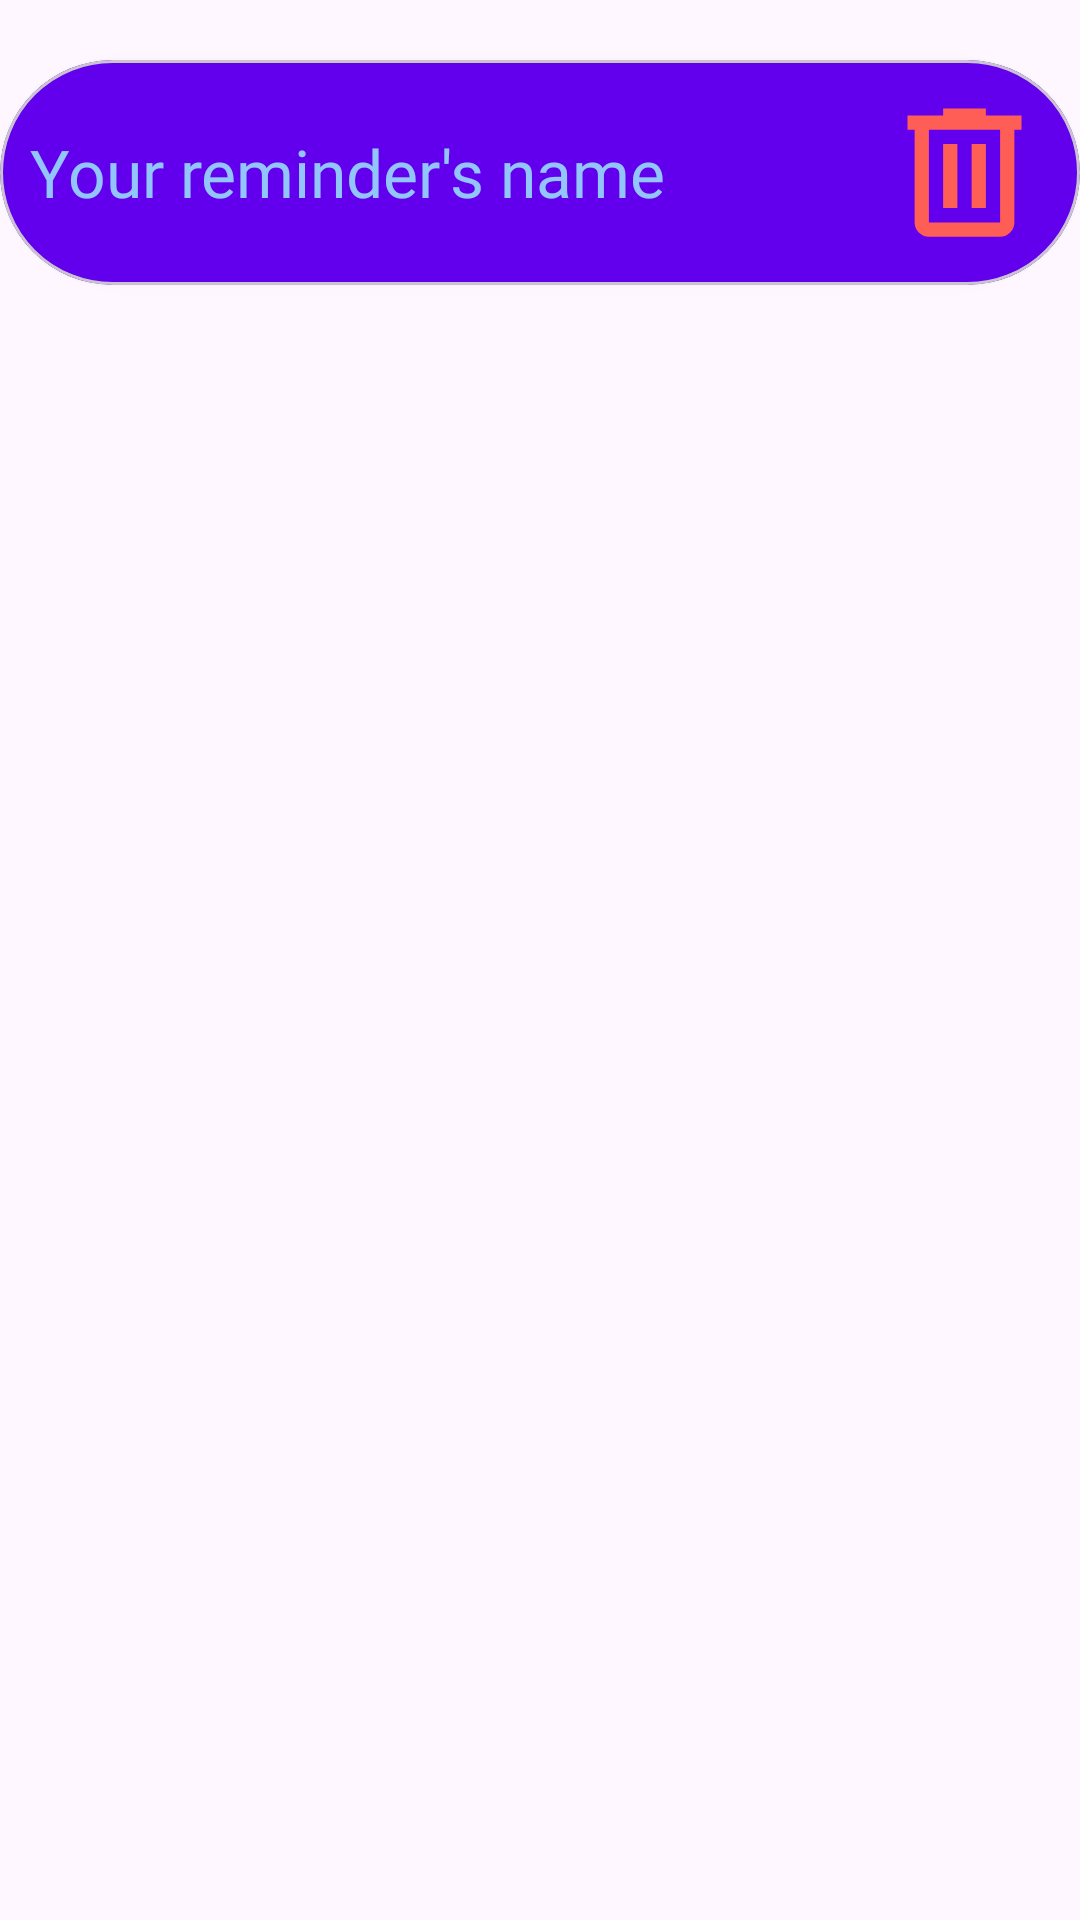

Icons on this 1080 x 1920 Android screen, each with the point to tap as (x,y):
delete: (964,172)
